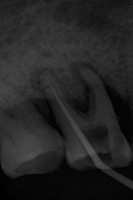Dental Caries: (29, 60, 103, 113)
